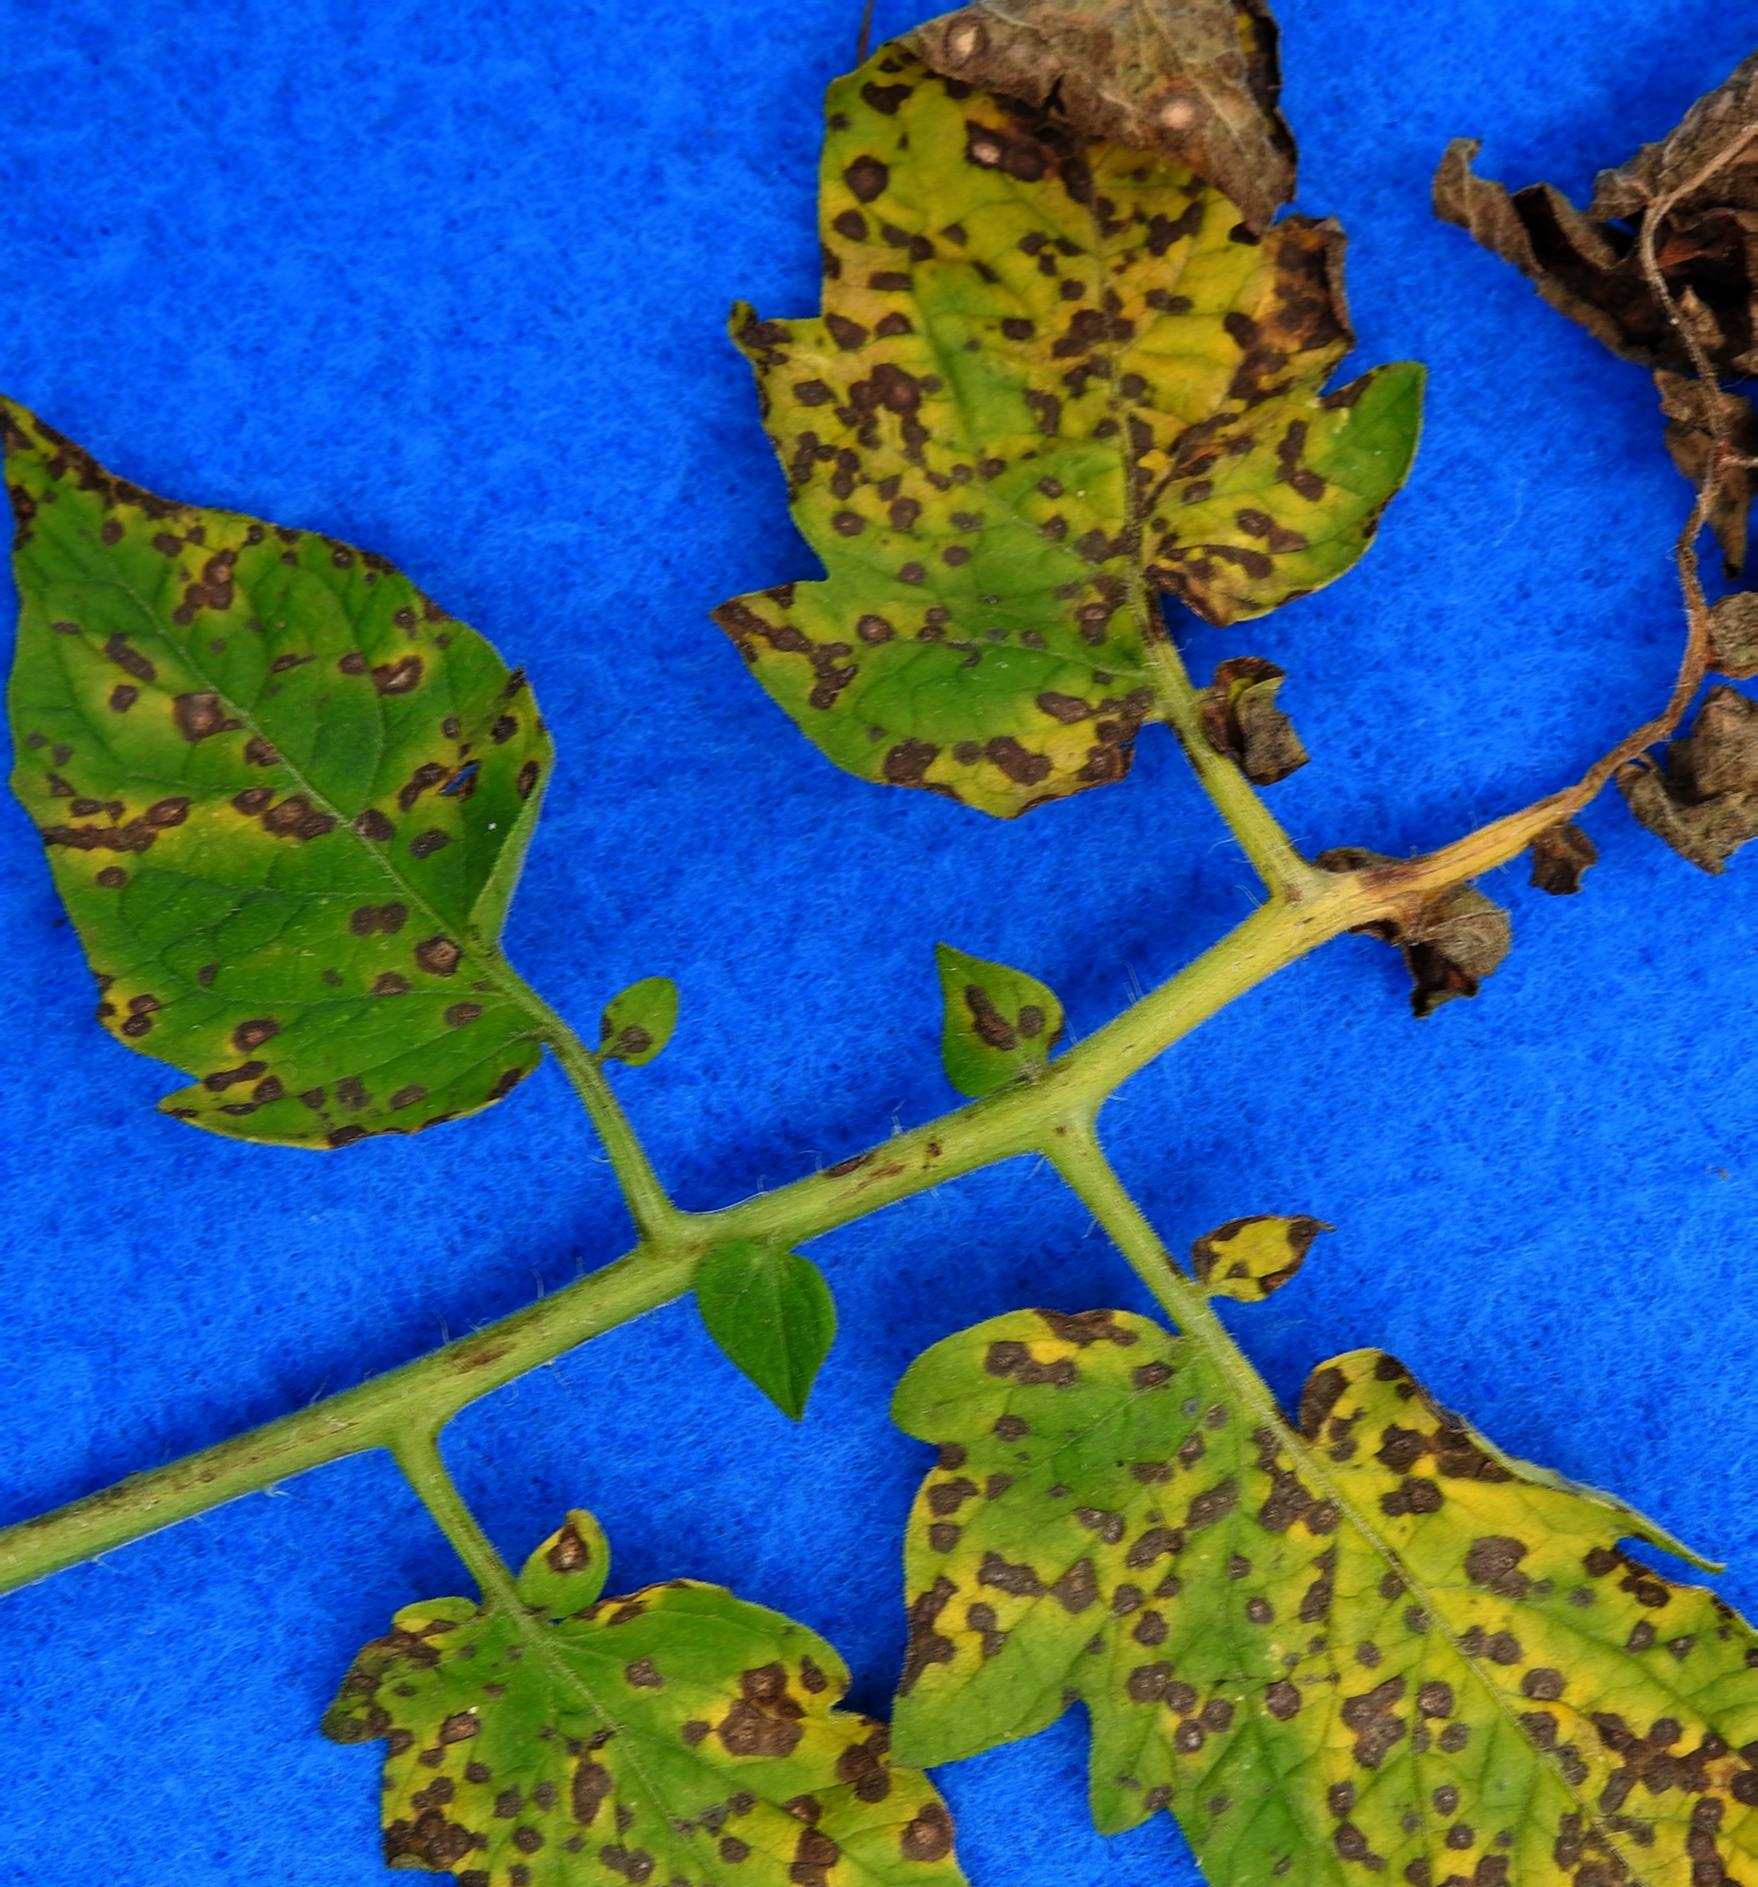Tomato Septoria leaf spot: (717, 0, 1487, 810), (889, 1248, 1758, 1887), (0, 354, 600, 1223), (330, 1509, 1028, 1887)
